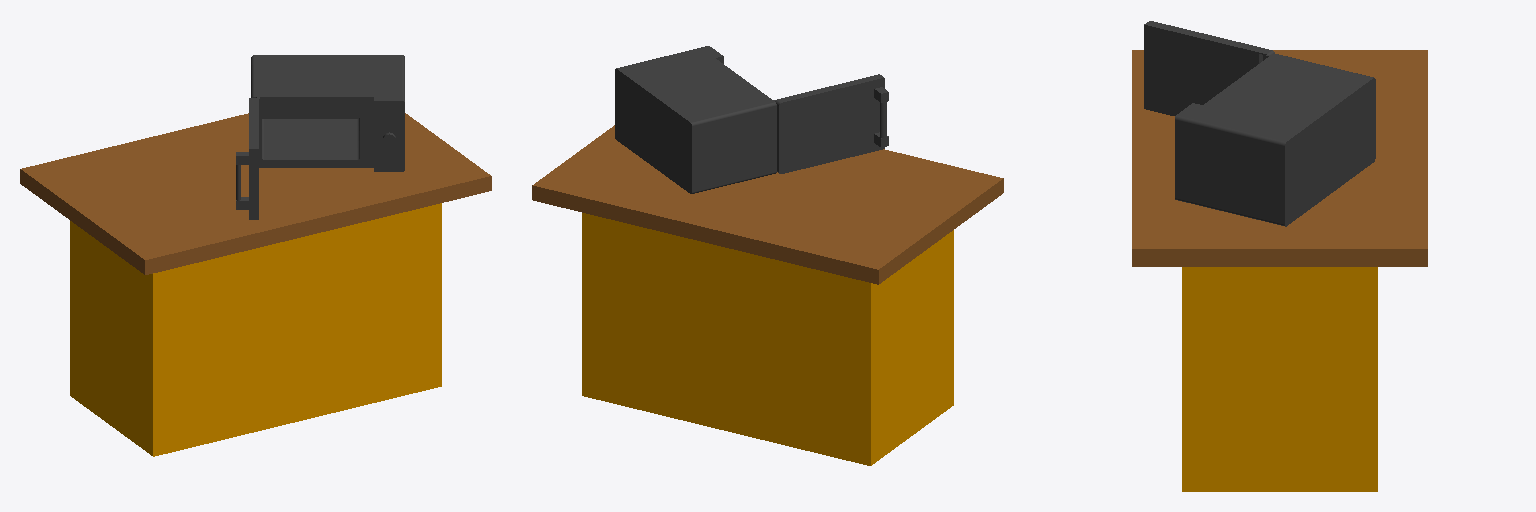
The robot description file, URDF, robot "table_zone_3":
<?xml version="1.0" ?>
<robot name="table_zone_3">
  <link name="table_3">
    <inertial>
      <origin xyz="0 0 0" rpy="0 0 0"/>
      <mass value="45.0"/>
      <inertia ixx="1.0" ixy="0" ixz="0" iyy="1.0" iyz="0" izz="1.0"/>
    </inertial>
    <visual>
      <origin xyz="0 0 0.7" rpy="0 0 0"/>
      <geometry><box size="1.2 0.75 0.05"/></geometry>
      <material name="wood"><color rgba="0.6 0.4 0.2 1"/></material>
    </visual>
    <collision>
      <origin xyz="0 0 0.7" rpy="0 0 0"/>
      <geometry><box size="1.2 0.75 0.05"/></geometry>
    </collision>
    <visual> <origin xyz="0 0 0.35" rpy="0 0 0"/>
      <geometry><box size="1.0 0.5 0.7"/></geometry>
    </visual>
    <collision>
      <origin xyz="0 0 0.7" rpy="0 0 0"/>
      <geometry><box size="1.0 0.5 0.7"/></geometry>
    </collision>
  </link>

  <link name="microwave">
    <inertial>
      <origin xyz="0 0 0" rpy="0 0 0"/>
      <mass value="5.0"/> <inertia ixx="0.1" ixy="0" ixz="0" iyy="0.1" iyz="0" izz="0.1"/>
    </inertial>
    
    <visual>
        <origin xyz="0 0 0" rpy="0 0 0" />
        <geometry>
            <mesh filename="microwave.stl" scale="0.0009 0.0009 0.0009"/>
        </geometry>
        <material name="gray">
            <color rgba="0.3 0.3 0.3 1.0" />
        </material>
    </visual>

    <collision>
      <origin xyz="0 0 0" rpy="0 0 0" />
      <geometry>
        <mesh filename="microwave.stl" scale="0.0009 0.0009 0.0009"/>
      </geometry>
    </collision>
  </link>

  <link name="grill">
    <inertial>
      <origin xyz="0 0 0" rpy="0 0 0"/>
      <mass value="5.0"/> <inertia ixx="0.1" ixy="0" ixz="0" iyy="0.1" iyz="0" izz="0.1"/>
    </inertial>
    
    <visual>
        <origin xyz="0 0 0" rpy="0 0 0" />
        <geometry>
            <mesh filename="grill_open.stl" scale="0.0009 0.0009 0.0009"/>
        </geometry>
        <material name="gray">
            <color rgba="0.3 0.3 0.3 1.0" />
        </material>
    </visual>

    <collision>
      <origin xyz="0 0 0" rpy="0 0 0" />
      <geometry>
        <mesh filename="grill_open.stl" scale="0.0009 0.0009 0.0009"/>
      </geometry>
    </collision>
  </link>

  <joint name="j_micro" type="fixed">
    <parent link="table_3"/><child link="microwave"/>
    <origin xyz="0.25 0 0.75" rpy="0 0 2.62"/>
  </joint>

  <joint name="j_grill" type="fixed">
    <parent link="table_3"/><child link="grill"/>
    <origin xyz="-0.4 -0.1 0.75" rpy="0 0 0"/>
  </joint>

</robot>

--- What the picture shows (computed from the rendered views, not written in the file) ---
3 views of the same robot in one strip: view 1: azimuth 30°, elevation 25°; view 2: azimuth 150°, elevation 25°; view 3: azimuth 270°, elevation 25° (orthographic).
Robot: table_zone_3 — 3 links, 2 joints (2 fixed); root link table_3; default pose: every joint at zero.
Links seen in each view (by area): view 1: table_3, microwave; view 2: table_3, microwave; view 3: table_3, microwave.
Boxes of the visible links, left/top/right/bottom form: table_3: left=20, top=113, right=491, bottom=456; microwave: left=236, top=55, right=404, bottom=219; table_3: left=532, top=125, right=1003, bottom=465; microwave: left=615, top=46, right=888, bottom=193; table_3: left=1132, top=50, right=1427, bottom=491; microwave: left=1144, top=21, right=1375, bottom=226.
Bounding box of the posed robot: 1.2 × 0.75 × 0.9867 m (x, y, z).
1 mesh visuals loaded from 2 distinct referenced files (1 binary STL); not drawn: 1 (reference not matched to a file when rendering).
